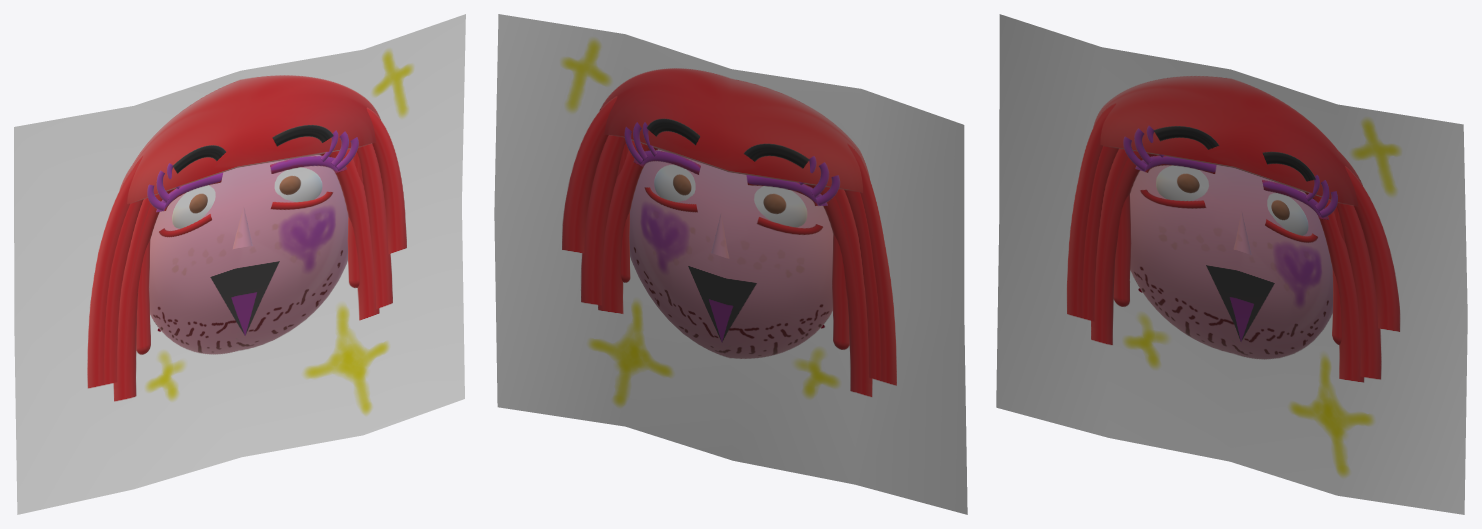
The model's file is kit.gltf.
3 views of the same model, side by side, from view 1: azimuth 30°, elevation 25°; view 2: azimuth 150°, elevation 25°; view 3: azimuth 330°, elevation 25° (orthographic).
Visible parts, largest first — view 1: Plane; view 2: Plane; view 3: Plane.
Boxes of the visible parts, x1,y1,x2,y2 form: Plane: [14, 14, 465, 514]; Plane: [494, 14, 967, 514]; Plane: [996, 14, 1467, 514].
Bounding box in the file's own units: 0.7745 × 0.6298 × 0.0486.
1 material, 1 textured.
